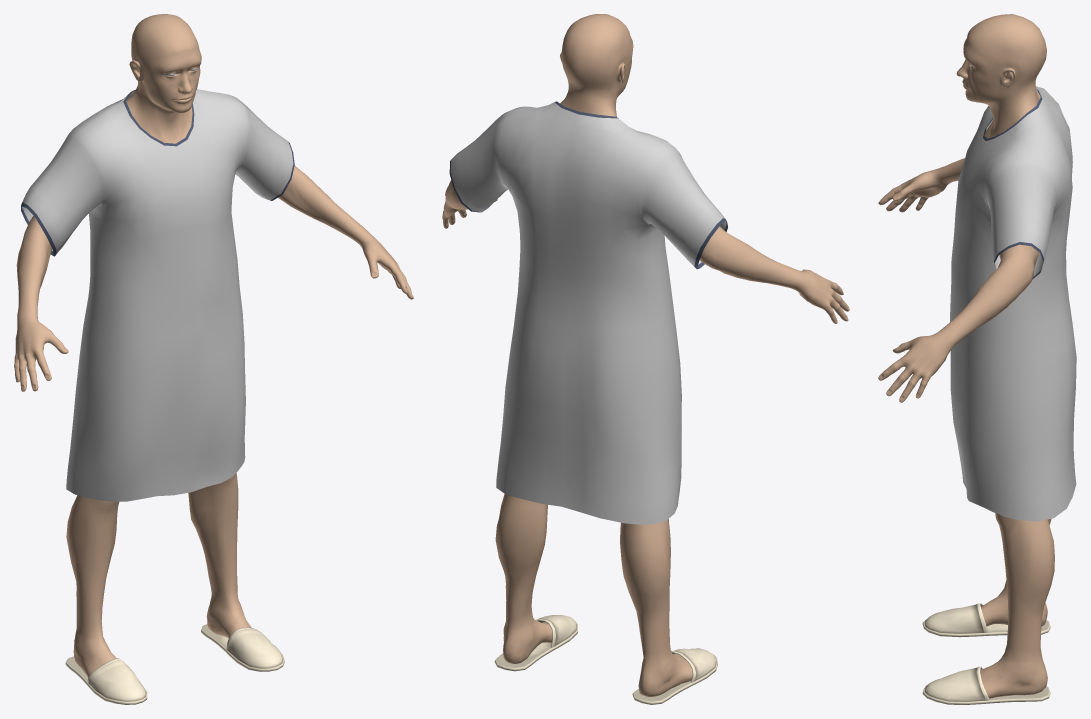
The model's file is Patient_Man.fbx.
3 views of the same model, side by side, from view 1: azimuth 30°, elevation 25°; view 2: azimuth 150°, elevation 25°; view 3: azimuth 270°, elevation 25° (orthographic).
Visible parts, largest first — view 1: Clothes, Man, Slipper.R, Slipper.L; view 2: Clothes, Man, Slipper.L, Slipper.R; view 3: Clothes, Man, Slipper.L, Slipper.R.
Part boxes in pixels (x1,y1,x2,y2): Clothes: (21,89,294,501); Man: (14,14,413,677); Slipper.R: (65,656,147,704); Slipper.L: (201,624,284,671); Clothes: (449,101,727,525); Man: (442,14,849,696); Slipper.L: (494,615,577,671); Slipper.R: (632,648,717,704); Clothes: (950,86,1076,521); Man: (878,14,1054,698); Slipper.L: (922,666,1050,704); Slipper.R: (922,603,1050,637).
Bounding box in the file's own units: 1115 × 1747 × 488.
